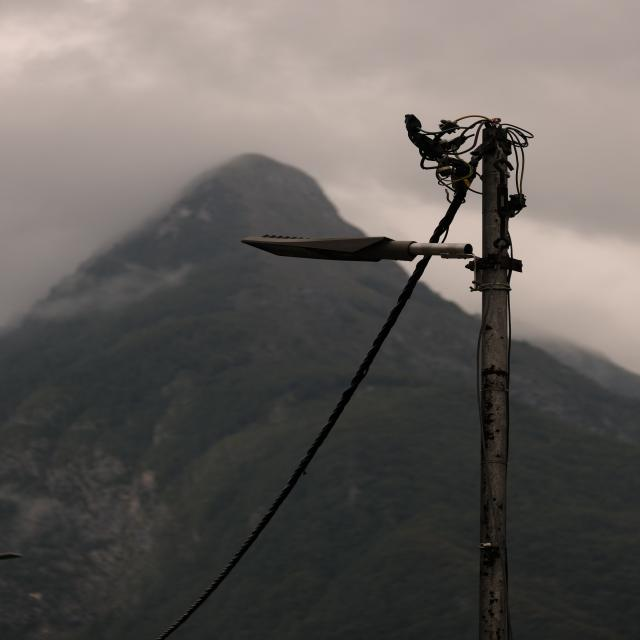Street Light: (242, 232, 522, 640)
